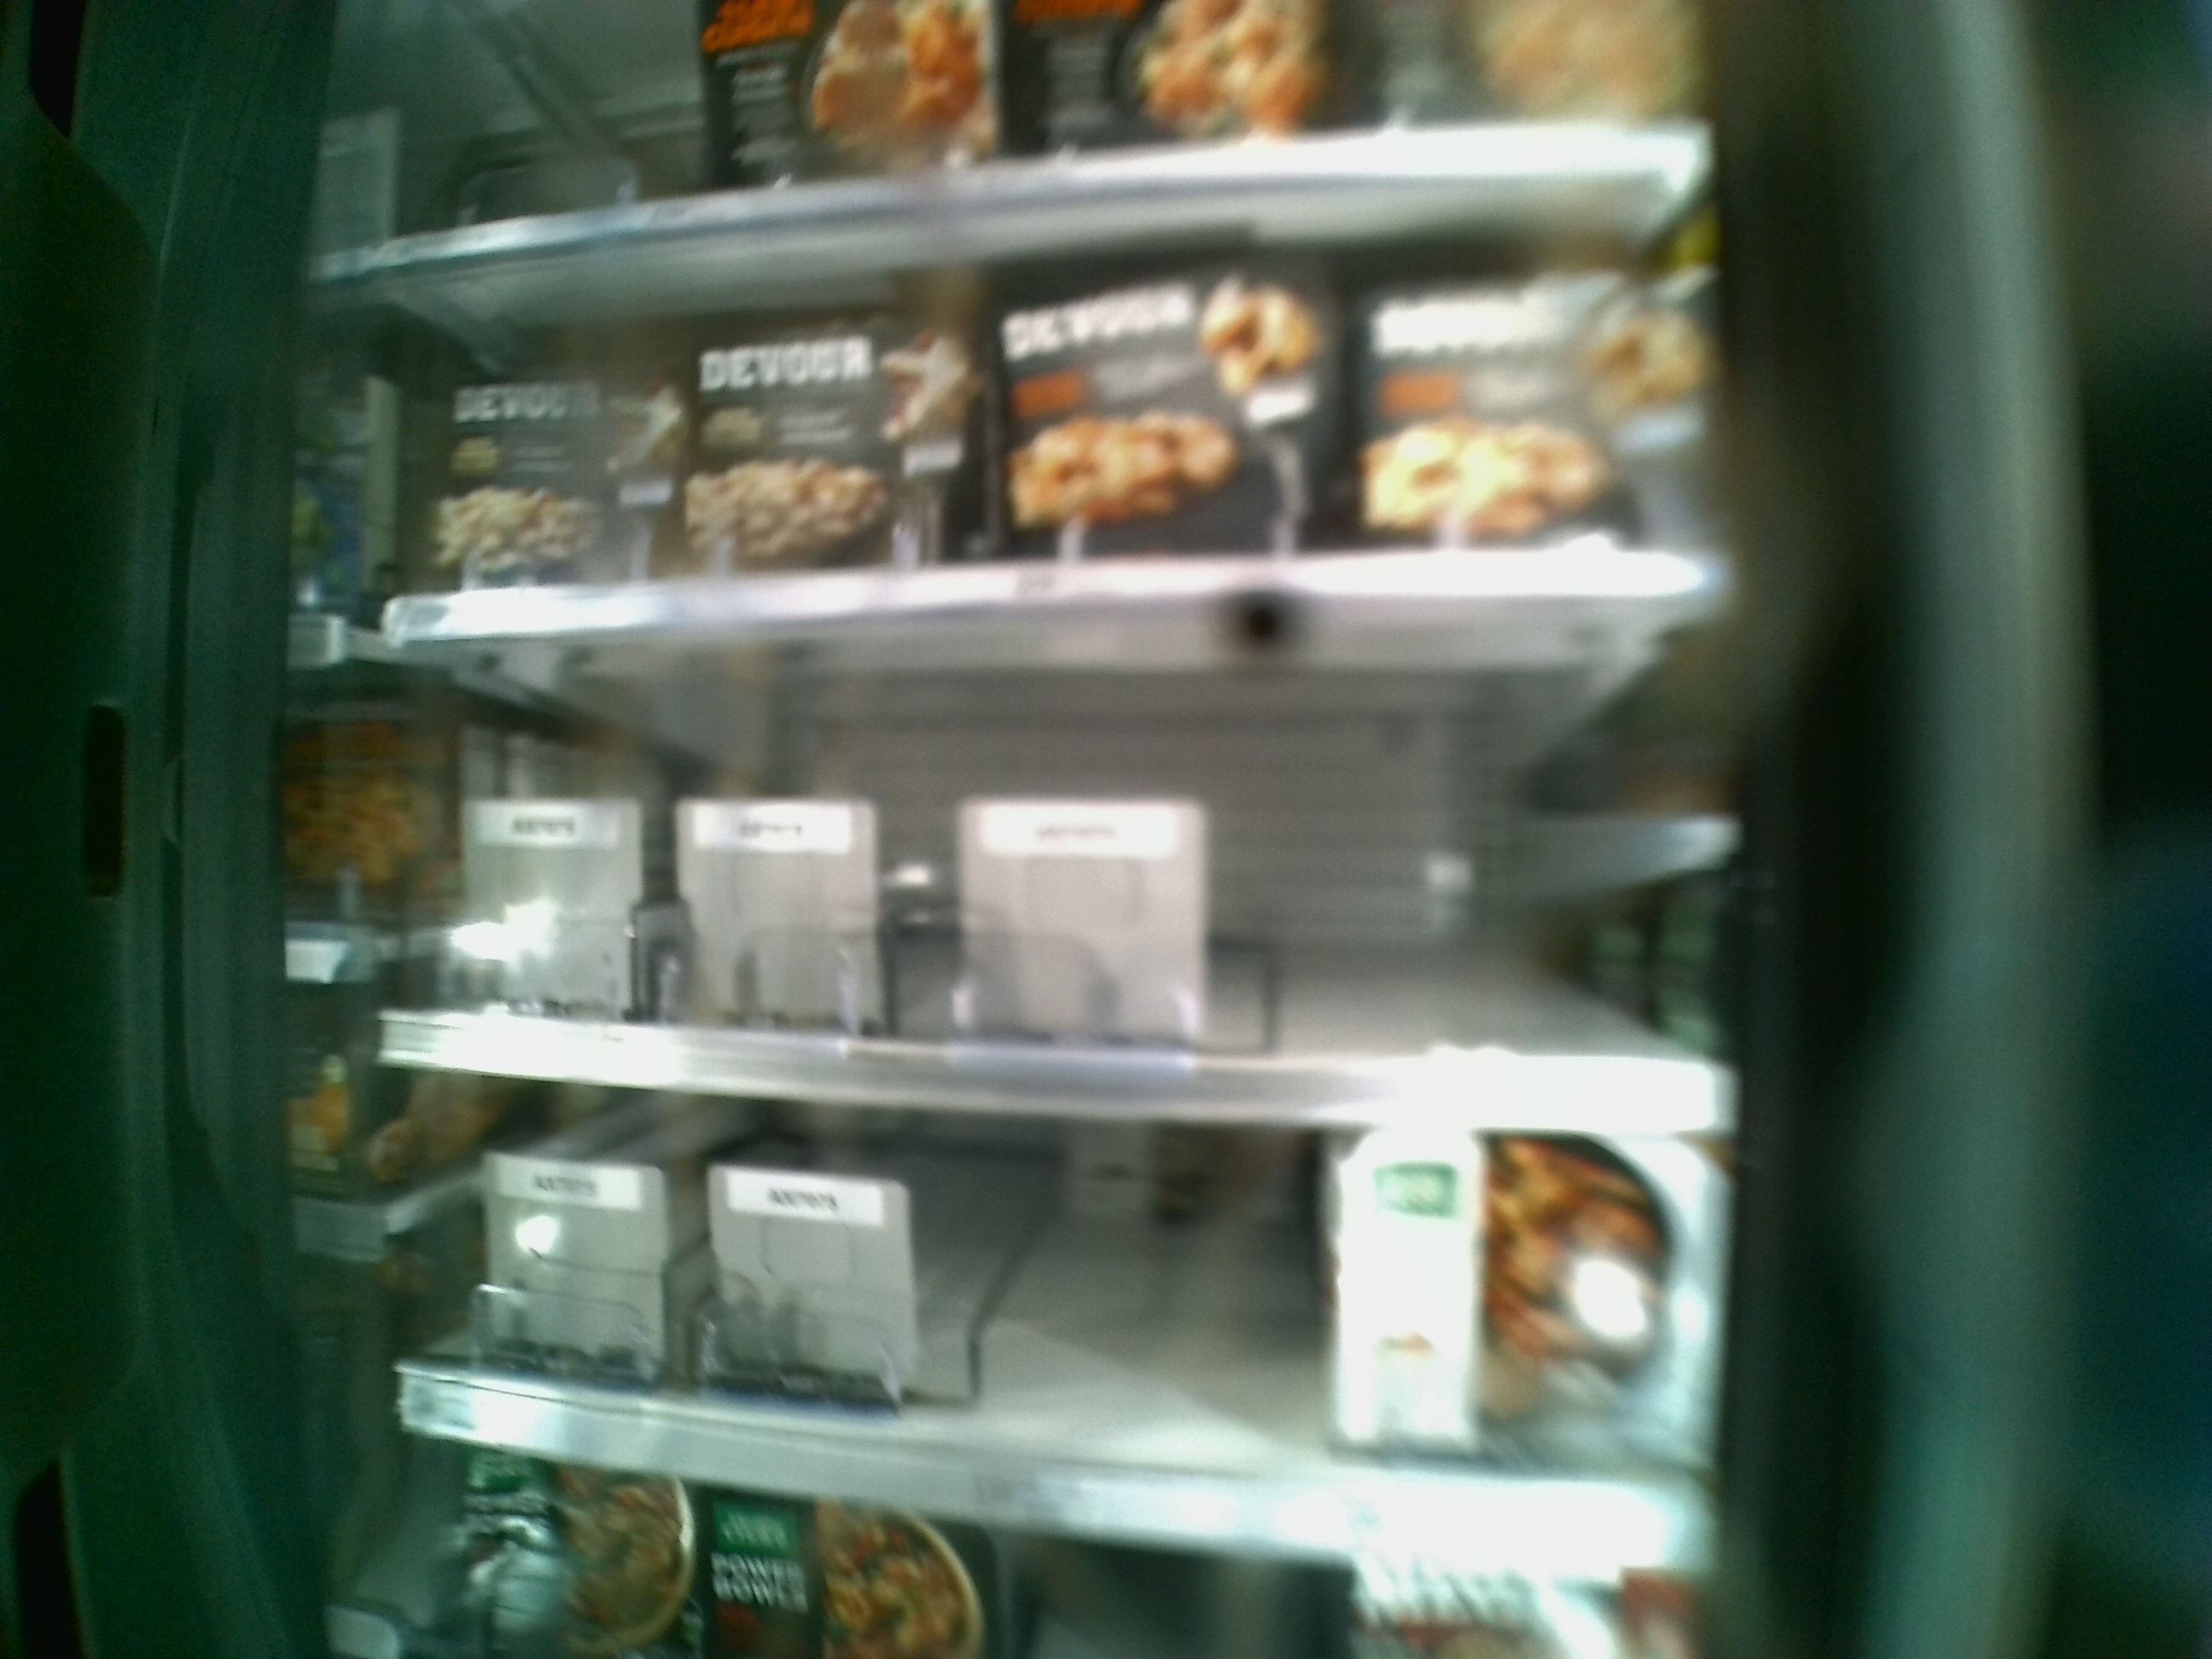shelf: (361, 598, 1737, 1133)
